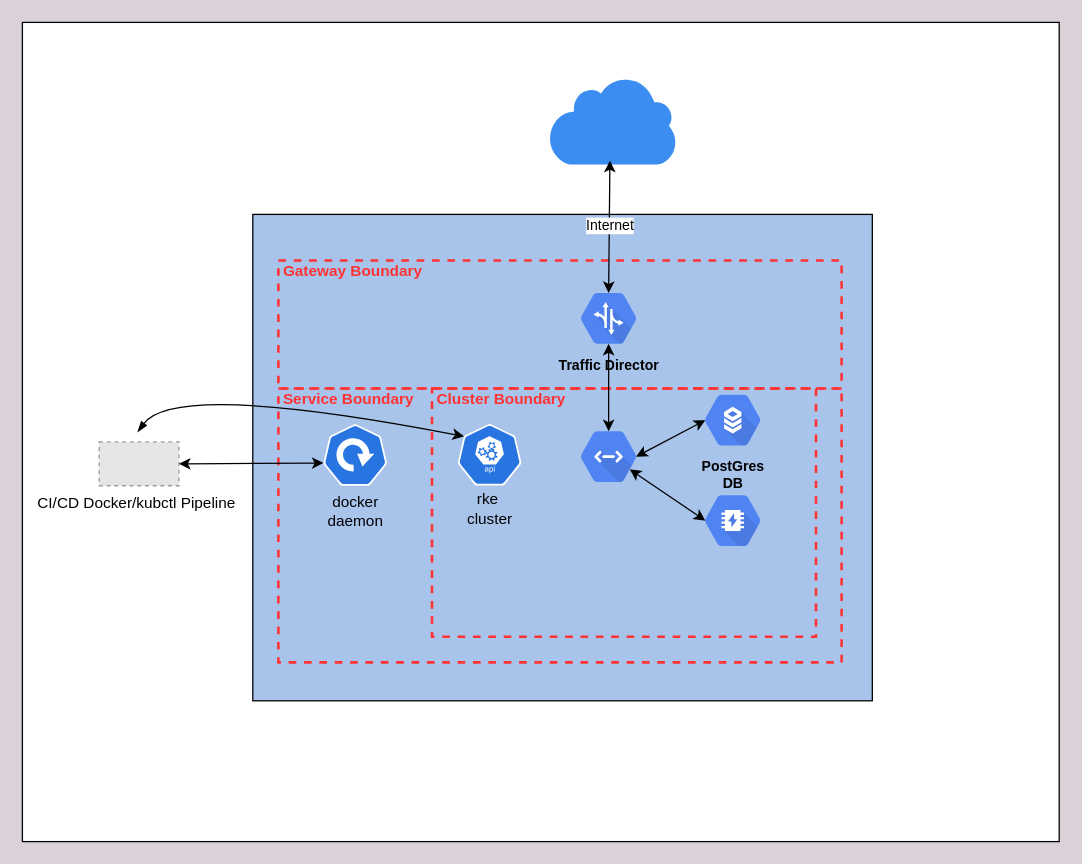
The diagram is 1082 pixels wide and 864 high, and some of its shapes have lost their labels. Grey dashed boxes stand in for pictures. Here are the shapes that lost their labels. From the top down, the box of each, then its label:
(252, 213, 872, 701): openSUSE host
(566, 419, 650, 493): dvpwa python monolith
(690, 483, 774, 557): redis cache
